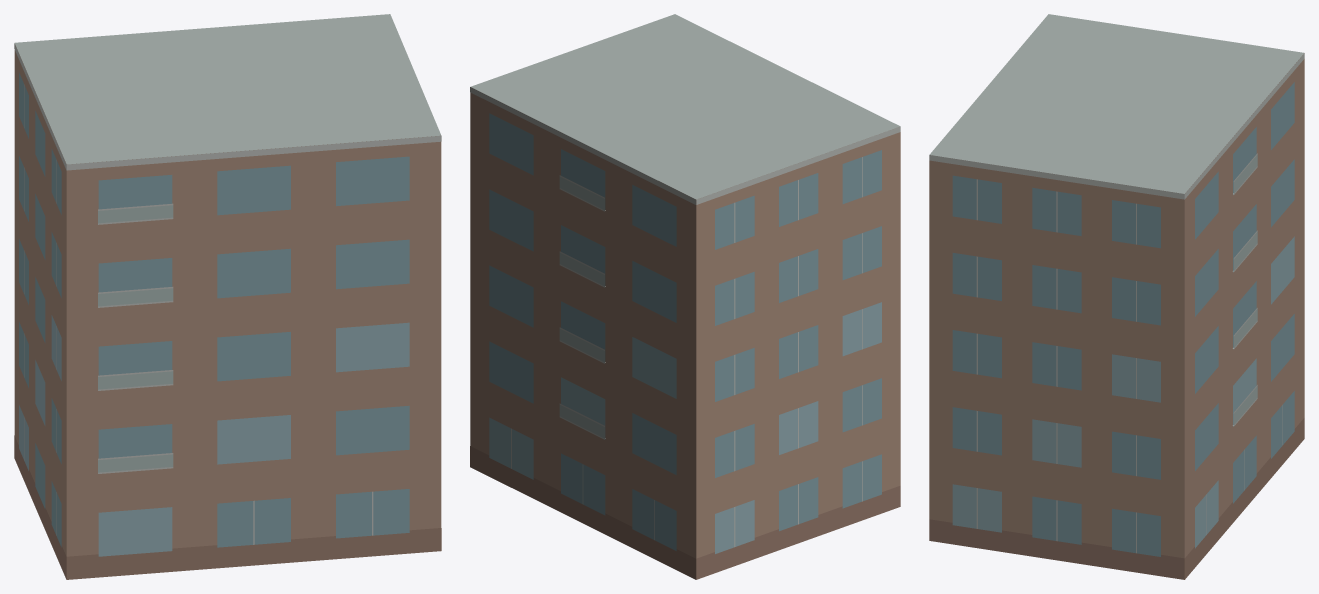
Rendered from survey-upis-32890928.glb.
3 renders of one model, left to right at view 1: azimuth 30°, elevation 25°; view 2: azimuth 150°, elevation 25°; view 3: azimuth 270°, elevation 25°, orthographic. The views are drawn at different scales.
Visible parts, largest first — view 1: survey-upis-32890928.tmp; view 2: survey-upis-32890928.tmp; view 3: survey-upis-32890928.tmp.
Boxes of the visible parts, x1,y1,x2,y2 form: survey-upis-32890928.tmp: [14, 14, 441, 579]; survey-upis-32890928.tmp: [470, 14, 900, 579]; survey-upis-32890928.tmp: [929, 14, 1304, 579].
Size of the model in its own units: 16.78 by 16.77 by 14.79.
